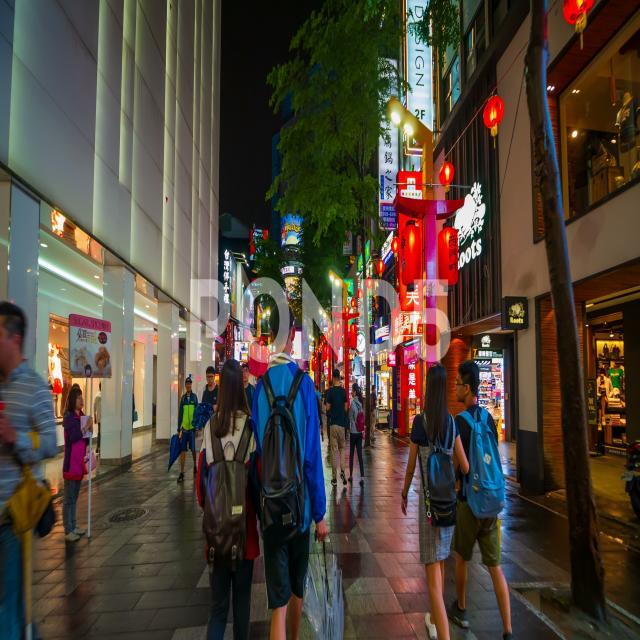Backpacks: (258, 394, 304, 550), (202, 450, 250, 571), (465, 416, 507, 520), (426, 451, 458, 528), (356, 411, 366, 433)
